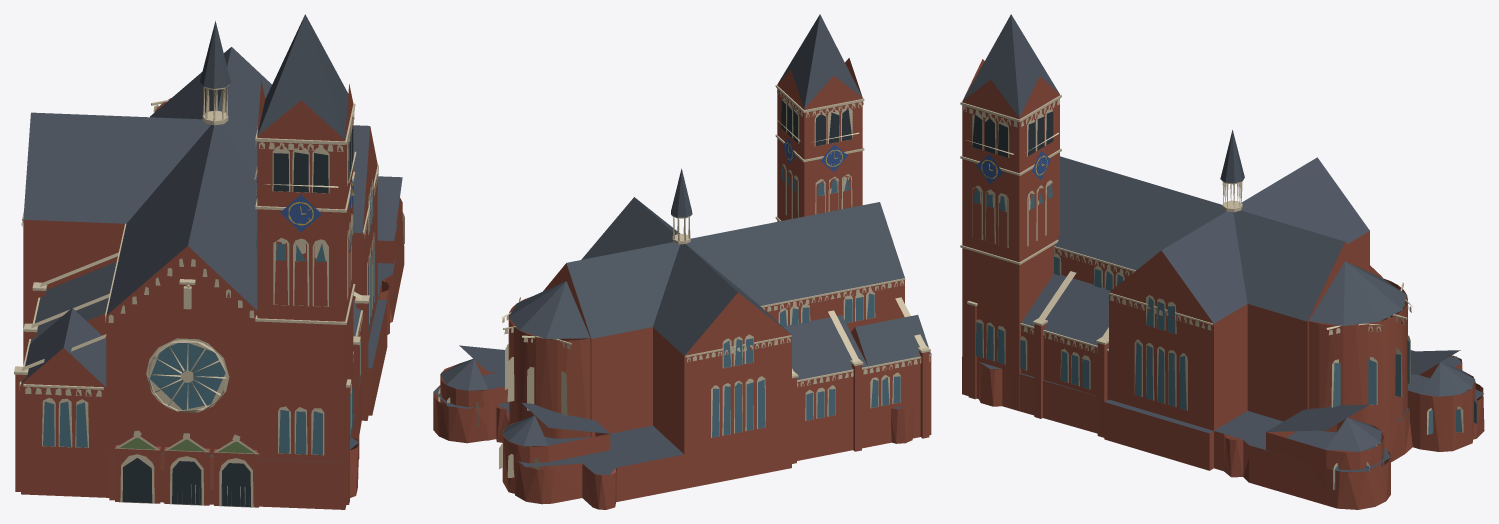
File: boomkerk.lod1.glb
3 views of the same model, side by side, from view 1: azimuth 30°, elevation 25°; view 2: azimuth 150°, elevation 25°; view 3: azimuth 270°, elevation 25° (orthographic). The views are drawn at different scales.
Visible parts, largest first — view 1: boomkerk; view 2: boomkerk; view 3: boomkerk.
Boxes of the visible parts, x1,y1,x2,y2 form: boomkerk: (14, 14, 404, 509); boomkerk: (433, 14, 931, 509); boomkerk: (960, 14, 1484, 509).
Bounding box in the file's own units: 49.32 × 42.3 × 53.32.
